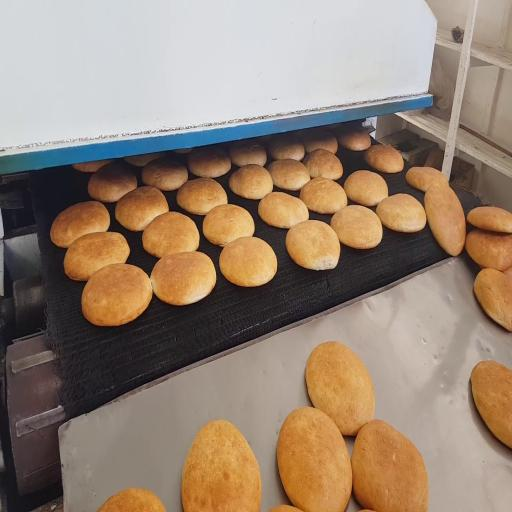bread: (277, 408, 352, 511), (182, 420, 261, 511), (352, 420, 428, 511), (306, 342, 374, 435), (82, 264, 152, 326), (471, 361, 511, 448), (151, 252, 216, 305), (64, 232, 130, 280), (220, 237, 277, 287), (425, 184, 465, 255), (50, 202, 110, 247), (286, 220, 340, 270), (142, 212, 199, 257), (115, 186, 168, 231), (474, 269, 511, 331), (331, 205, 382, 249), (203, 204, 254, 246), (88, 163, 137, 202), (376, 194, 426, 232), (466, 229, 511, 271), (177, 178, 227, 215), (259, 192, 308, 228), (300, 177, 347, 214), (344, 170, 388, 206), (142, 157, 187, 191), (229, 165, 273, 199), (98, 489, 165, 511), (268, 159, 310, 191), (188, 147, 231, 177), (304, 149, 343, 180), (467, 207, 511, 233), (364, 145, 403, 173), (406, 167, 448, 191), (229, 140, 266, 167), (268, 134, 305, 160), (302, 129, 337, 154), (337, 129, 371, 151), (124, 152, 166, 167), (72, 160, 111, 173), (269, 505, 300, 511), (174, 148, 192, 154), (503, 268, 511, 279)
